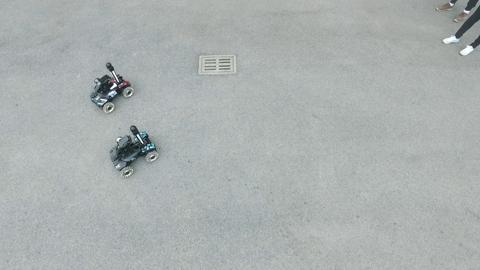chariot: (107, 123, 161, 178), (90, 61, 136, 114)
